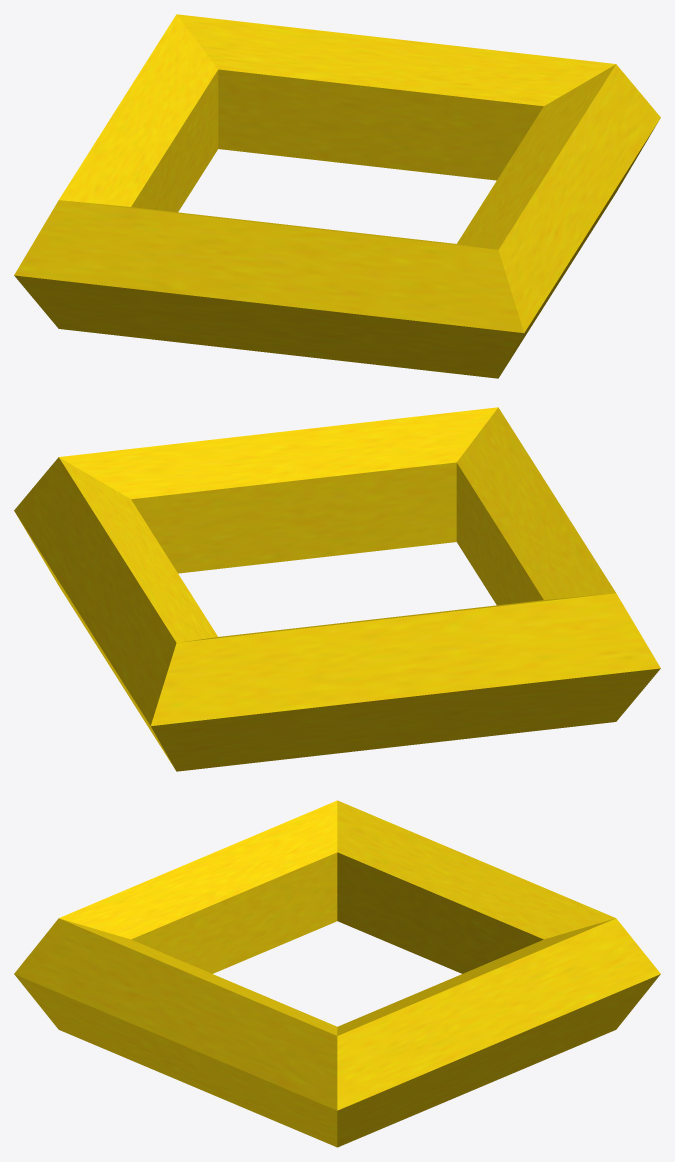
File: clearing_ritual_main_block_top.obj
3 renders of one model, top to bottom at view 1: azimuth 30°, elevation 25°; view 2: azimuth 150°, elevation 25°; view 3: azimuth 270°, elevation 25°, orthographic. The views are drawn at different scales.
Visible parts, largest first — view 1: Torus.005; view 2: Torus.005; view 3: Torus.005.
Boxes of the visible parts, x1,y1,x2,y2 form: Torus.005: (14,14,660,378); Torus.005: (14,407,660,771); Torus.005: (14,800,660,1147).
Bounding box in the file's own units: 2.96 × 0.5621 × 2.96.
